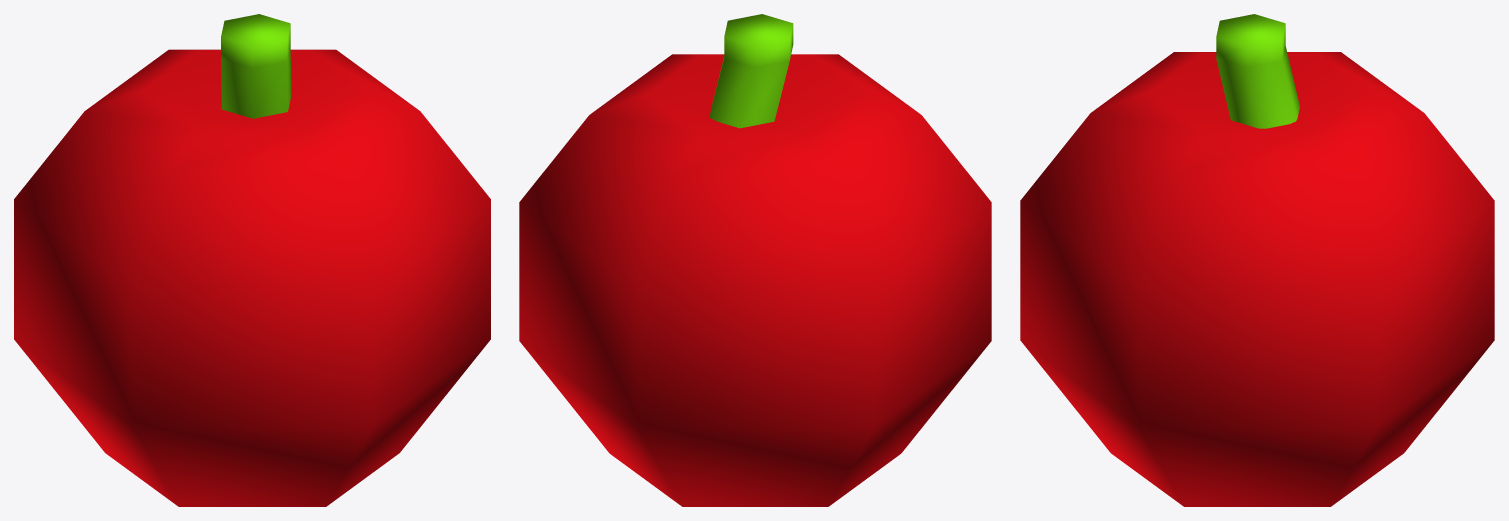
Rendered from Apple.fbx.
The picture shows the model from 3 angles, left to right: view 1: azimuth 30°, elevation 25°; view 2: azimuth 150°, elevation 25°; view 3: azimuth 270°, elevation 25°; orthographic projection.
Visible parts, largest first — view 1: Sphere, Circle; view 2: Sphere, Circle; view 3: Sphere, Circle.
Part boxes in pixels (bbox=[...]): Sphere: bbox=[14, 49, 490, 506]; Circle: bbox=[221, 14, 291, 118]; Sphere: bbox=[519, 54, 991, 506]; Circle: bbox=[709, 14, 793, 128]; Sphere: bbox=[1020, 52, 1494, 506]; Circle: bbox=[1216, 14, 1299, 128].
Size of the model in its own units: 38.19 by 46.31 by 44.1.
